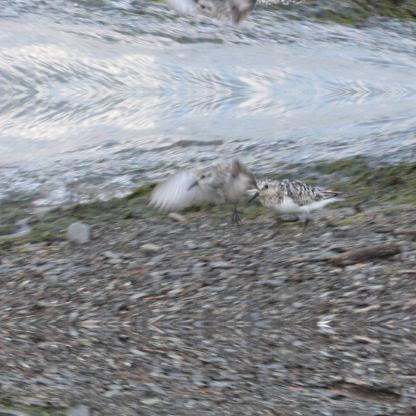Bird: (148, 154, 266, 216), (247, 178, 346, 233), (148, 0, 266, 29)
